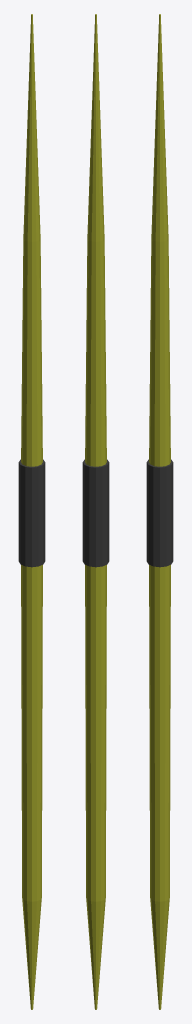
Rendered from Javelin.fbx.
3 views of the same model, side by side, from view 1: azimuth 30°, elevation 25°; view 2: azimuth 150°, elevation 25°; view 3: azimuth 330°, elevation 25° (orthographic).
Parts seen in each view (by area): view 1: Javelin; view 2: Javelin; view 3: Javelin.
Boxes of the visible parts, bbox=[...] form: Javelin: bbox=[18, 14, 45, 1009]; Javelin: bbox=[82, 14, 109, 1009]; Javelin: bbox=[146, 14, 173, 1009].
Size of the model in its own units: 28.8 by 1200 by 28.8.
